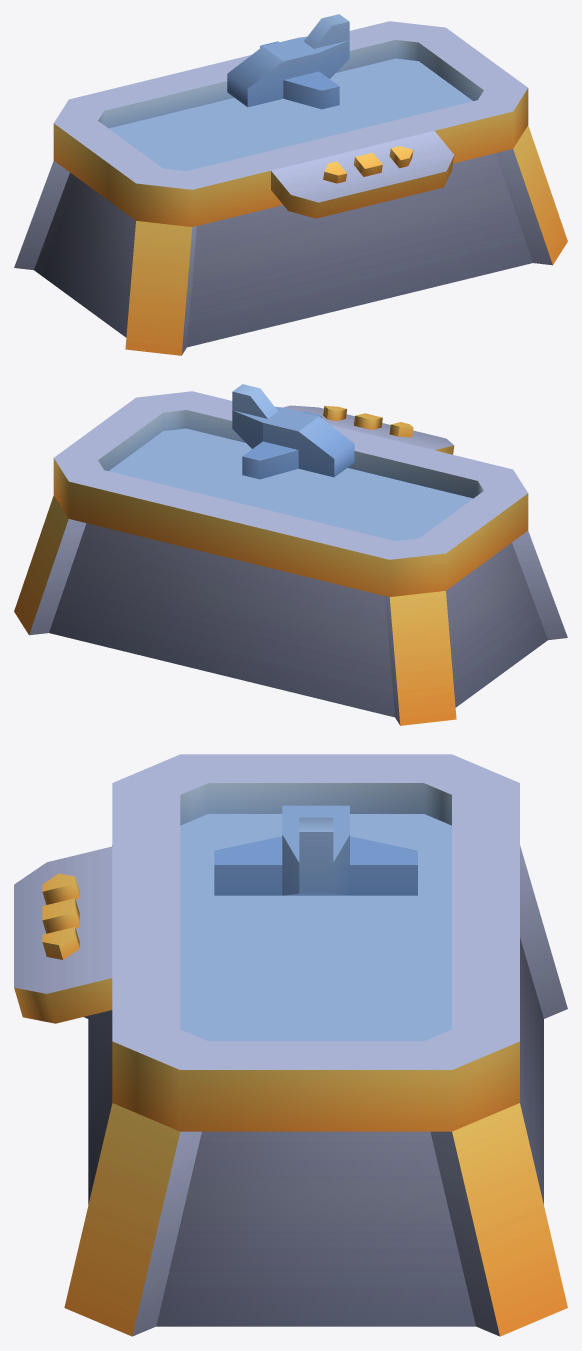
File: station-table-display.glb
The picture shows the model from 3 angles, top to bottom: view 1: azimuth 30°, elevation 25°; view 2: azimuth 150°, elevation 25°; view 3: azimuth 270°, elevation 25°; orthographic projection. The views are drawn at different scales.
Visible parts, largest first — view 1: table-display, ship; view 2: table-display, ship; view 3: table-display, ship.
Boxes of the visible parts, x1,y1,x2,y2 form: table-display: (14,21,567,355); ship: (227,14,349,109); table-display: (14,391,567,725); ship: (232,384,354,479); table-display: (14,754,567,1336); ship: (214,805,417,895).
Bounding box in the file's own units: 1.24 × 0.6 × 0.8155.
Materials: 1 (1 with a texture image).
